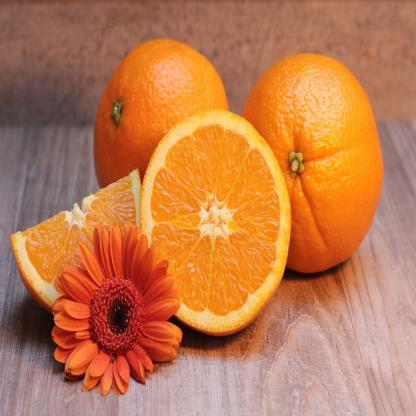orange: (238, 45, 383, 292), (88, 38, 230, 252)
